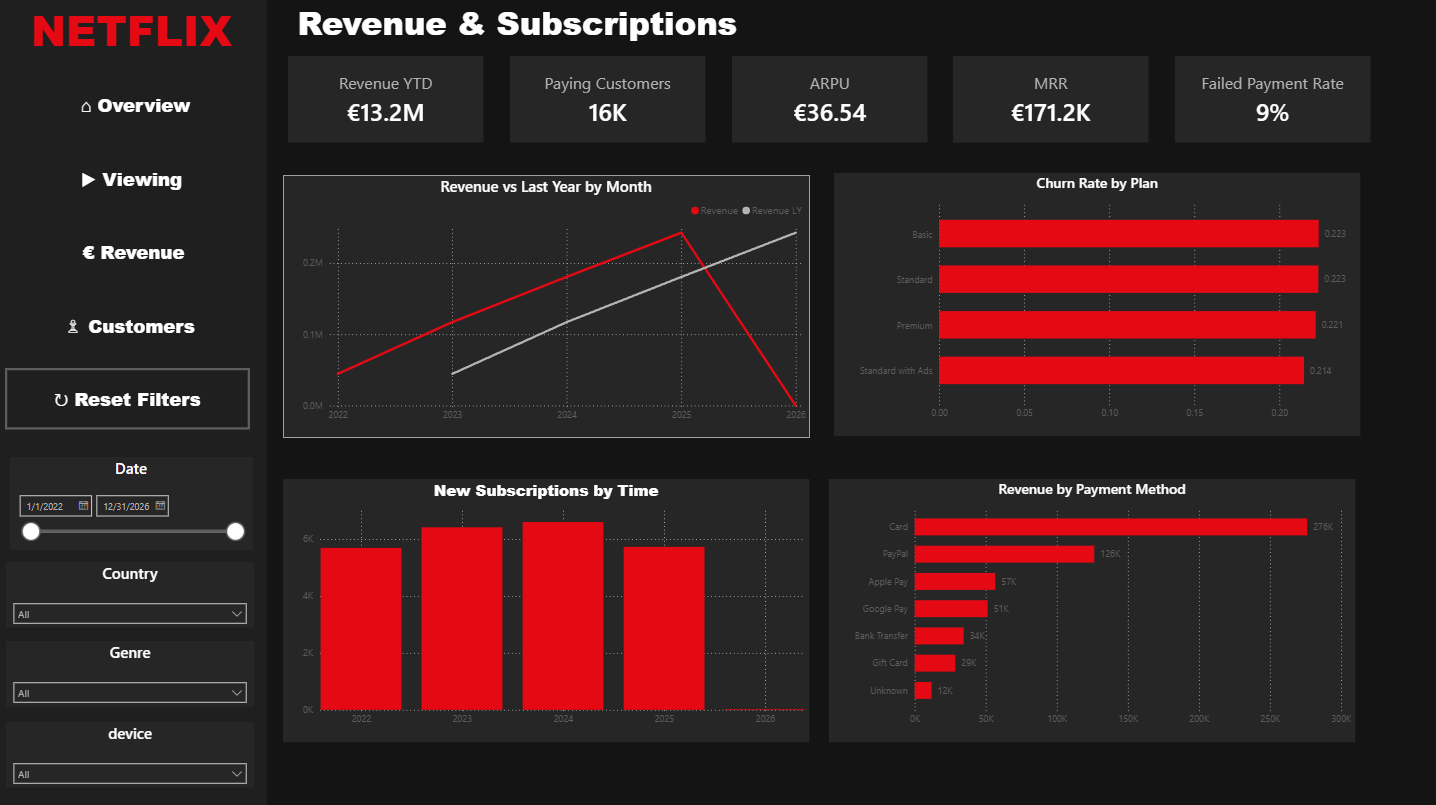

The page's visual inventory and layout, read from the dashboard file:
{"tool":"powerbi","page":{"name":"3. Revenue & Subscriptions","canvas":[1920,1080],"ordinal":2},"visuals":[{"type":"shape","box":[0,0,360,1080],"z":0},{"type":"textbox","box":[0,0,360.7,99.3],"z":1000},{"type":"textbox","box":[360,0,666,80],"z":2000},{"type":"actionButton","box":[17.2,201.8,325.8,81.9],"z":3000},{"type":"actionButton","box":[14.7,397.1,325.8,81.9],"z":4000},{"type":"actionButton","box":[19.7,299.4,325.8,81.9],"z":5000},{"type":"actionButton","box":[22.2,104.1,325.8,81.9],"z":6001},{"type":"cardVisual","fields":{"Data":["_Measures.Revenue YTD"]},"box":[388.5,80,260,115],"z":6002},{"type":"cardVisual","fields":{"Data":["_Measures.Paying Customers"]},"box":[683.4,80,260,115],"z":6003},{"type":"cardVisual","fields":{"Data":["_Measures.ARPU"]},"box":[978.3,80,260,115],"z":6004},{"type":"cardVisual","fields":{"Data":["_Measures.MRR"]},"box":[1273.1,80,260,115],"z":6005},{"type":"cardVisual","fields":{"Data":["_Measures.Failed Payment Rate"]},"box":[1568,80,260,115],"z":6006},{"type":"lineChart","title":"Revenue vs Last Year by Month","fields":{"Category":["Date.Date.Variation.Date Hierarchy.Year","Date.Date.Variation.Date Hierarchy.Quarter","Date.Date.Variation.Date Hierarchy.Month","Date.Date.Variation.Date Hierarchy.Day"],"Y":["_Measures.Revenue","_Measures.Revenue LY"]},"box":[382,238,700,350],"z":6007},{"type":"clusteredBarChart","title":"Churn Rate by Plan","fields":{"Category":["subscriptions.plan"],"Y":["_Measures.Churn Rate"]},"box":[1114,236,700,350],"z":6008},{"type":"clusteredBarChart","title":"Revenue by Payment Method","fields":{"Category":["payments.payment_method"],"Y":["_Measures.Revenue"]},"box":[1108,642,700,350],"z":6009},{"type":"clusteredColumnChart","title":"New Subscriptions by Time","fields":{"Category":["Date.Date.Variation.Date Hierarchy.Year","Date.Date.Variation.Date Hierarchy.Quarter","Date.Date.Variation.Date Hierarchy.Month","Date.Date.Variation.Date Hierarchy.Day"],"Y":["_Measures.New Subscriptions"]},"box":[382,642,700,350],"z":6010},{"type":"actionButton","box":[12.2,494.8,325.8,81.9],"z":6011},{"type":"slicer","title":"Date","fields":{"Values":["Date.Date"]},"box":[18.3,613.3,321.7,123.3],"z":6012},{"type":"slicer","title":"Country","fields":{"Values":["users.country"]},"box":[13.3,753.3,330,86.7],"z":6013},{"type":"slicer","title":"Genre","fields":{"Values":["title_genres.genre"]},"box":[13.3,858.3,330,86.7],"z":6014},{"type":"slicer","title":"device","fields":{"Values":["viewing_history.device"]},"box":[13.3,965,330,86.7],"z":6015}]}

Visuals, with their boxes in screenshot pixels (x1, y1, x2, y2), scaled from the page's 1920x1080 canvas onto the 1436x805 screenshot:
shape: 0/0/269/804
textbox: 0/0/270/74
textbox: 269/0/767/60
actionButton: 13/150/257/211
actionButton: 11/296/255/357
actionButton: 15/223/258/284
actionButton: 17/78/260/139
cardVisual - _Measures.Revenue YTD: 291/60/485/145
cardVisual - _Measures.Paying Customers: 511/60/706/145
cardVisual - _Measures.ARPU: 732/60/926/145
cardVisual - _Measures.MRR: 952/60/1147/145
cardVisual - _Measures.Failed Payment Rate: 1173/60/1367/145
"Revenue vs Last Year by Month" lineChart: 286/177/809/438
"Churn Rate by Plan" clusteredBarChart: 833/176/1357/437
"Revenue by Payment Method" clusteredBarChart: 829/479/1352/739
"New Subscriptions by Time" clusteredColumnChart: 286/479/809/739
actionButton: 9/369/253/430
"Date" slicer: 14/457/254/549
"Country" slicer: 10/561/257/626
"Genre" slicer: 10/640/257/704
"device" slicer: 10/719/257/784
